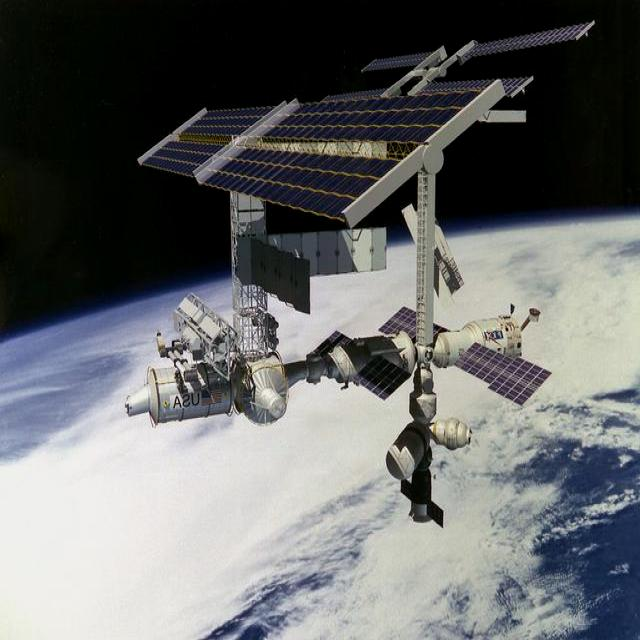medium_debris: (126, 22, 593, 525)
